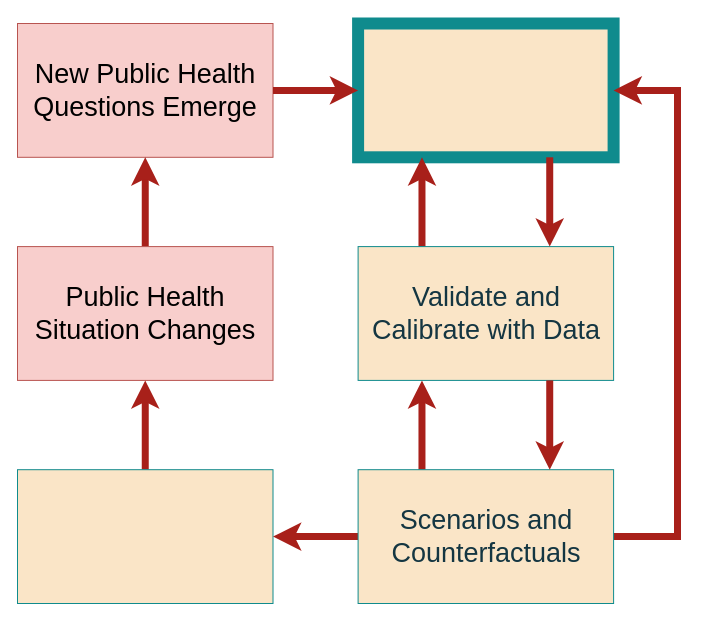
The diagram is 706 pixels wide and 621 high, and some of its shapes have lost their labels. The shapes that lost their labels are listed below. From the top down, each one's centre as x and y in pixels, then its label:
At point (485, 90): "Develop or Refine Simulation Model".
At point (144, 536): "Rush to Make Impact".
